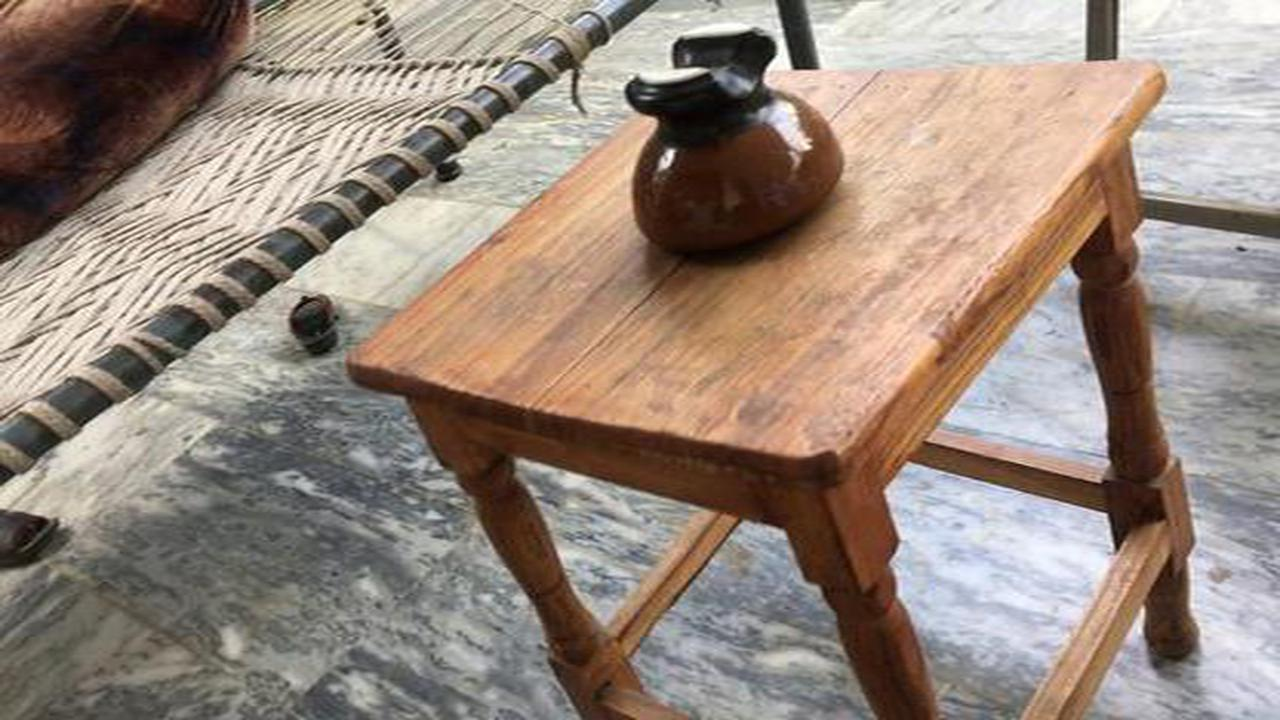insulator_pin: (594, 14, 856, 269)
